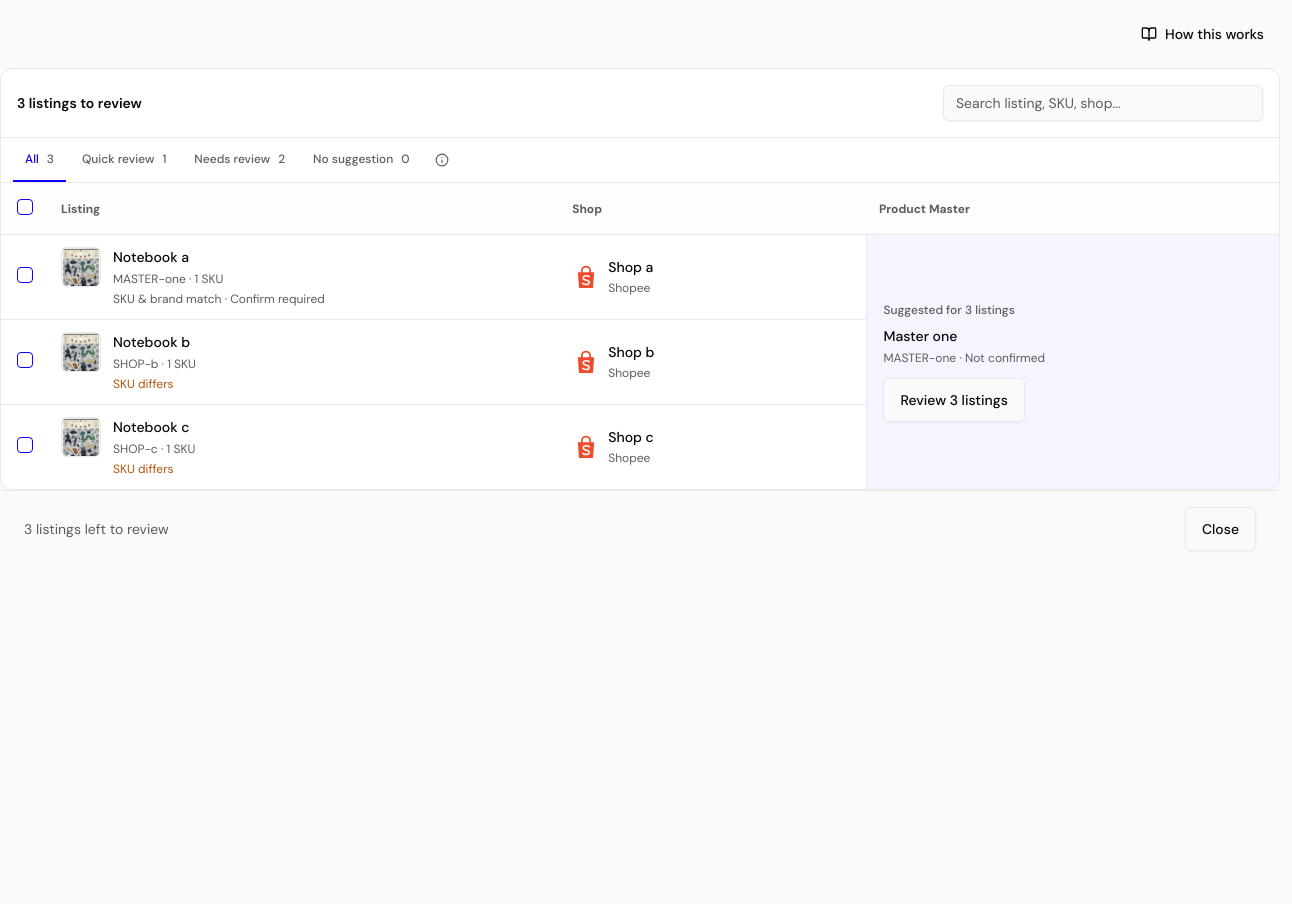
it: Shared suggested Master groups › rebuilds groups after search and filters without reviewing hidden group members
Check: the button "Review 3 listings" is shown, box left=883, top=378, right=1025, bottom=422
Step 1. Click the button "Needs review 2" → {"x": 240, "y": 160}, box left=182, top=138, right=297, bottom=182
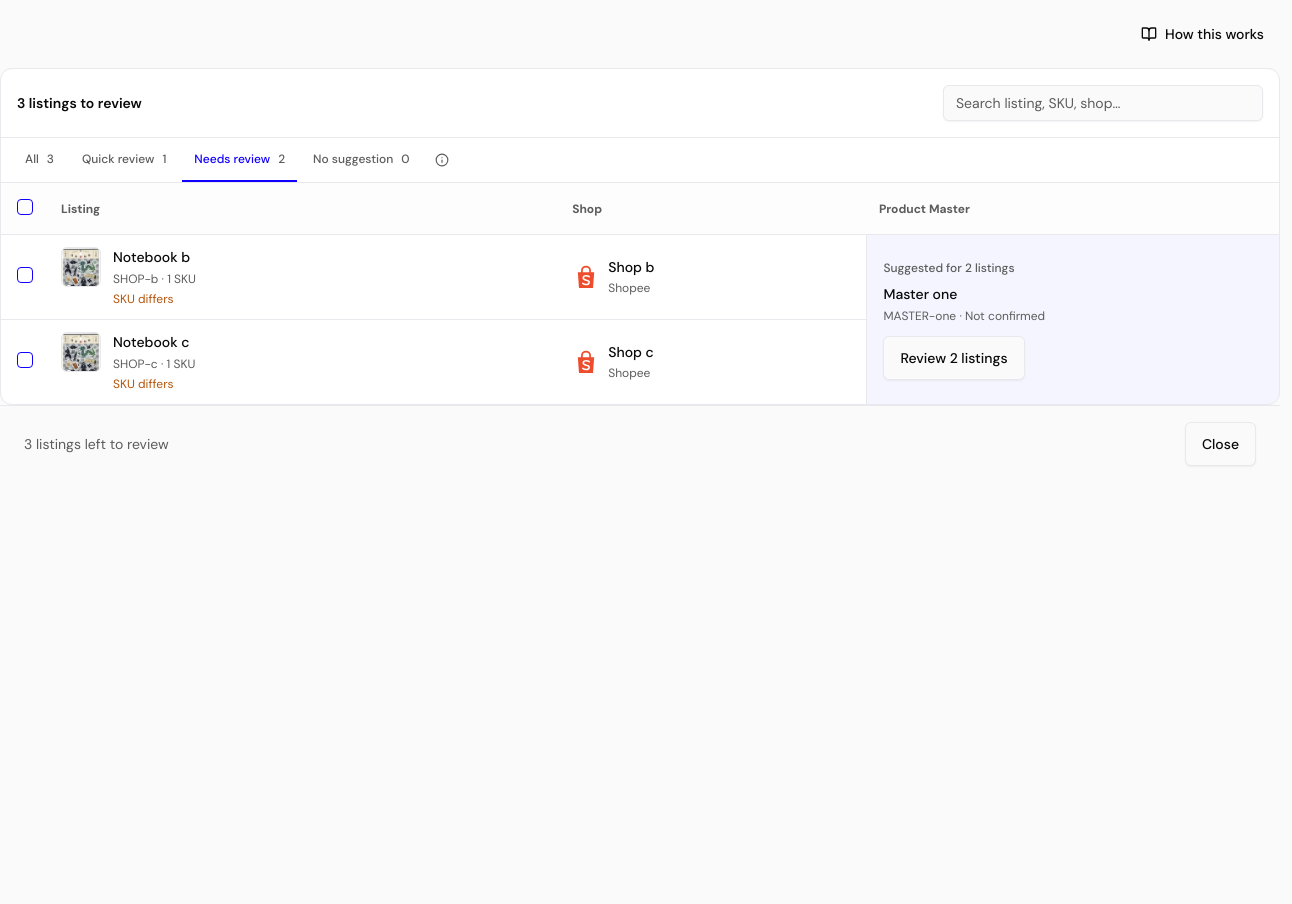
Check: the button "Review 2 listings" is shown
Step 2. Click the button "Review 2 listings" → {"x": 954, "y": 358}, box left=883, top=336, right=1025, bottom=380
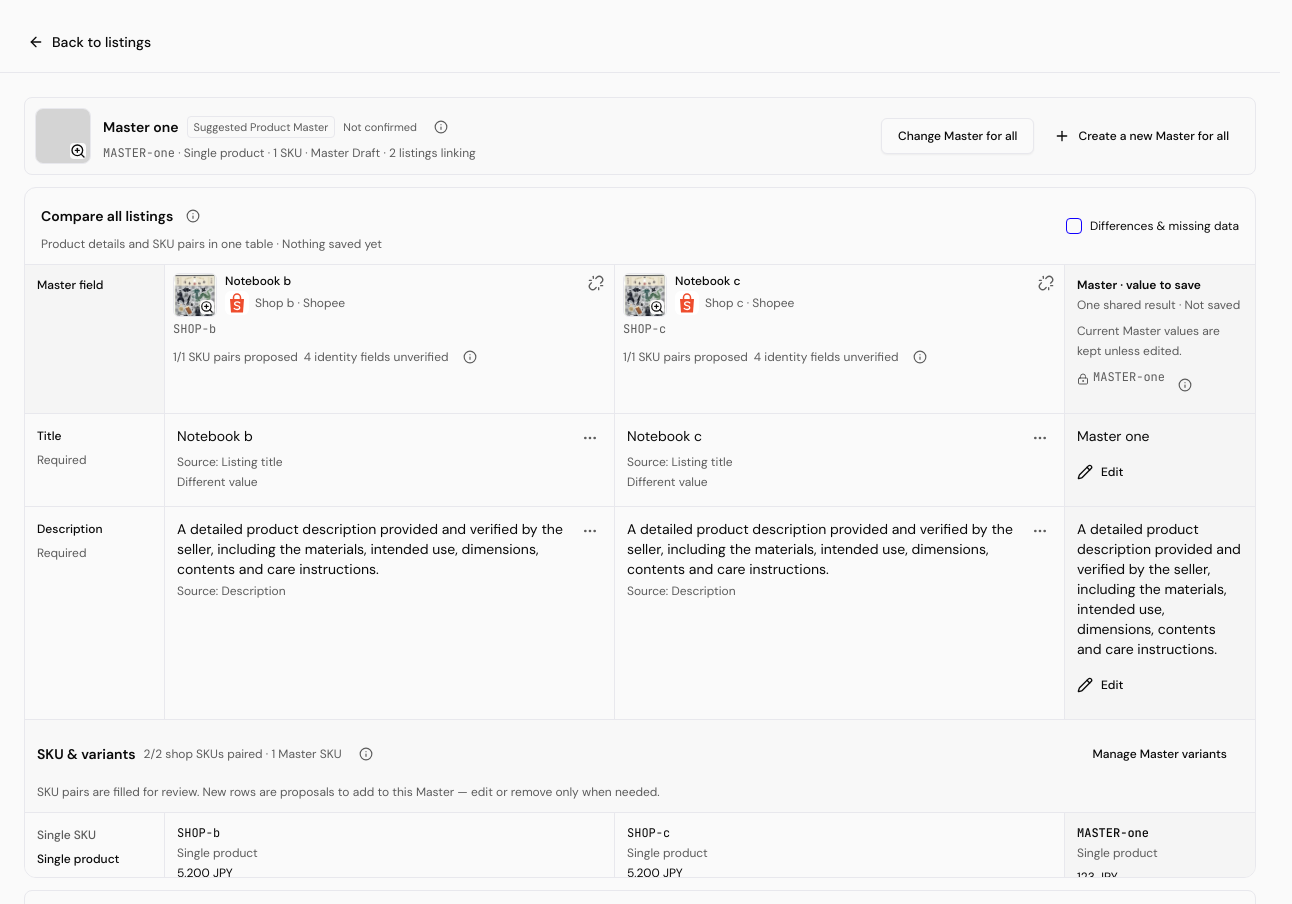
Check: the text "Shop a" is not shown
Check: the column heading "Shop b" is shown, box left=165, top=265, right=615, bottom=414
Check: the column heading "Shop c" is shown, box left=615, top=265, right=1065, bottom=414
Step 3. Click the button "Back to listings" → {"x": 90, "y": 42}, box left=12, top=20, right=167, bottom=64
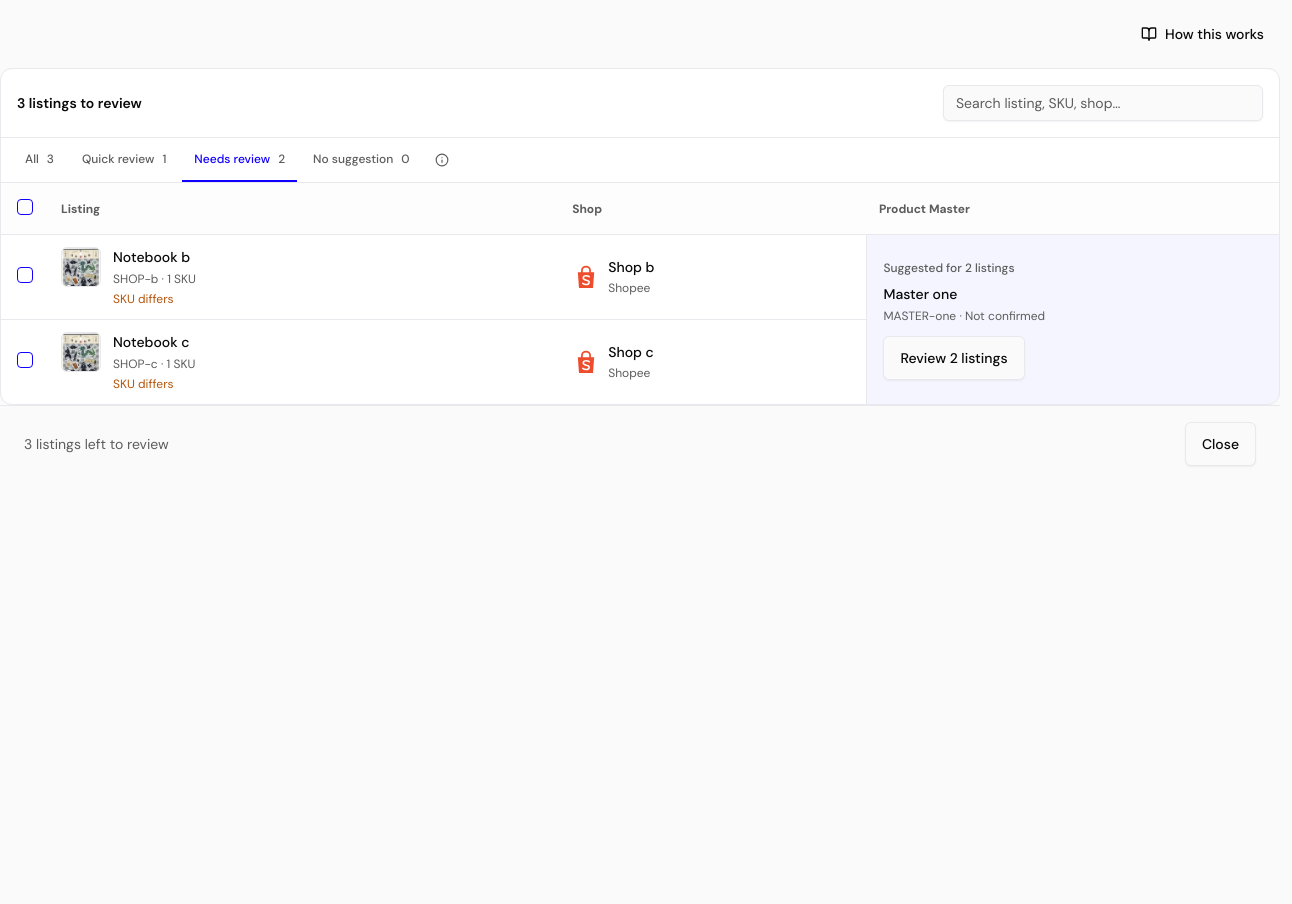
Step 4. Type "Shop b" into the field named "Search shop listings" → {"x": 1103, "y": 103}, box left=943, top=85, right=1263, bottom=121
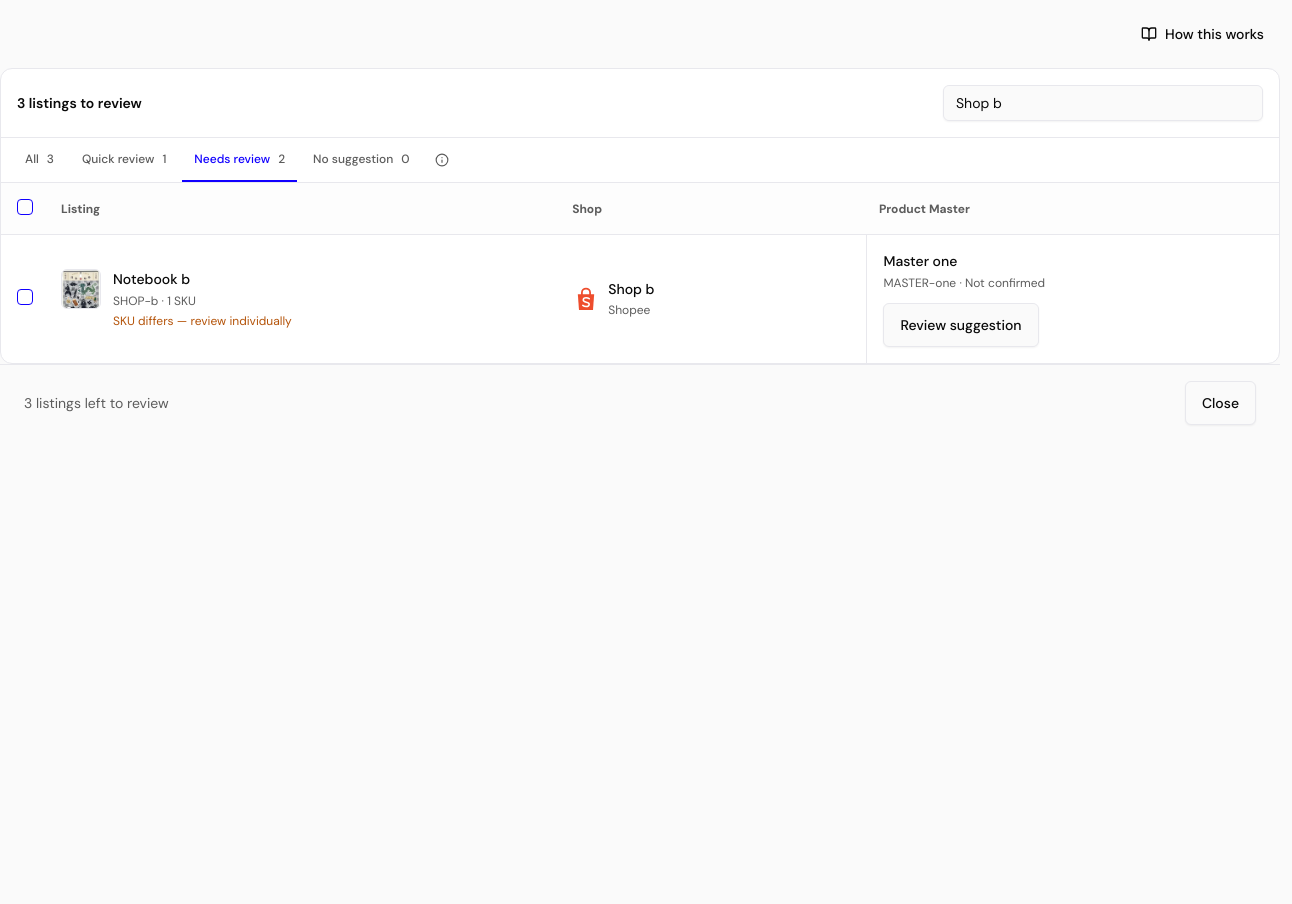
Check: the button "Review 2 listings" is gone
Step 5. Click the button "Review suggestion" → {"x": 961, "y": 325}, box left=883, top=303, right=1038, bottom=347
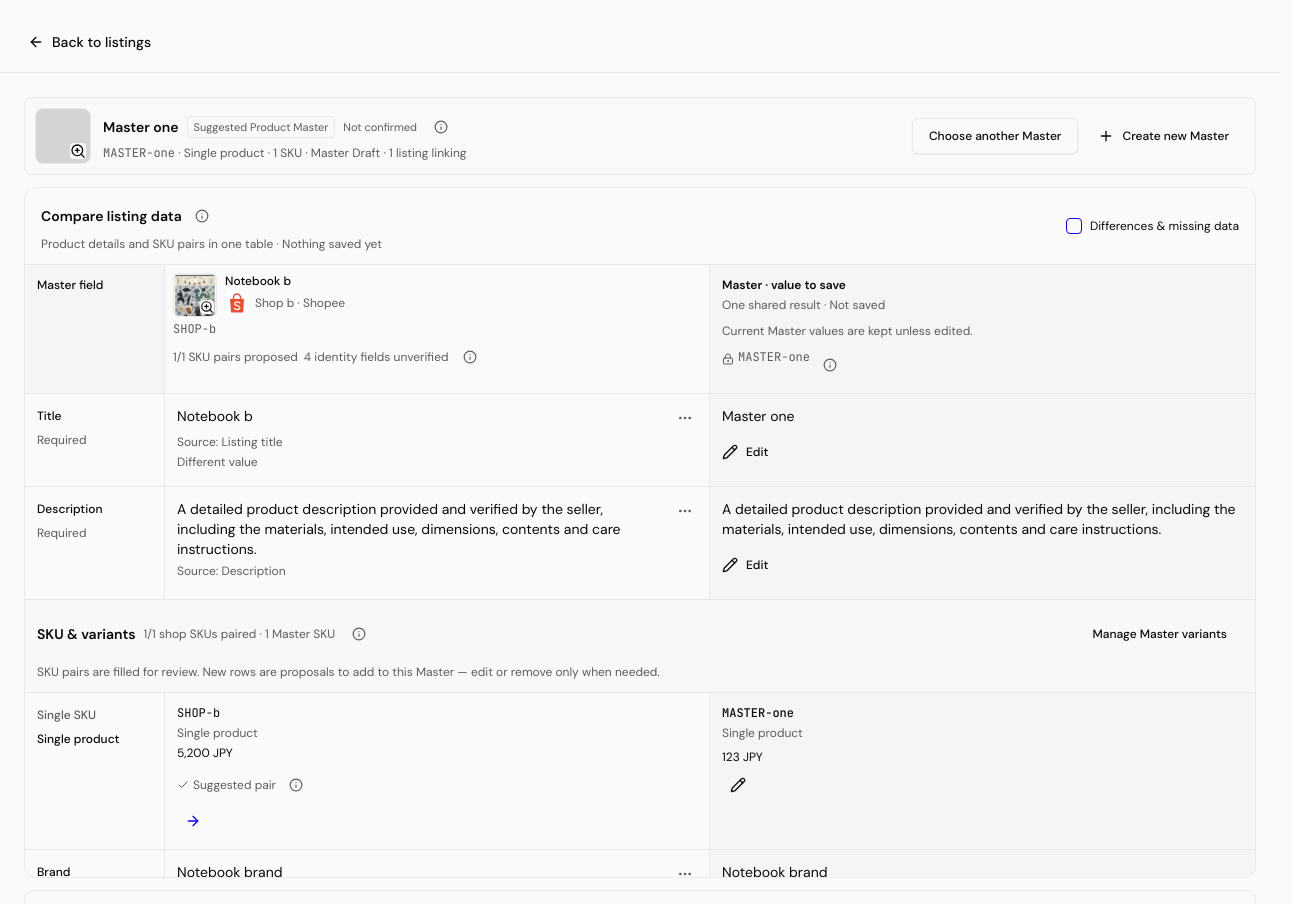
Check: the column heading "Shop c" is not shown
Check: the column heading "Shop b" is shown, box left=165, top=265, right=710, bottom=394
